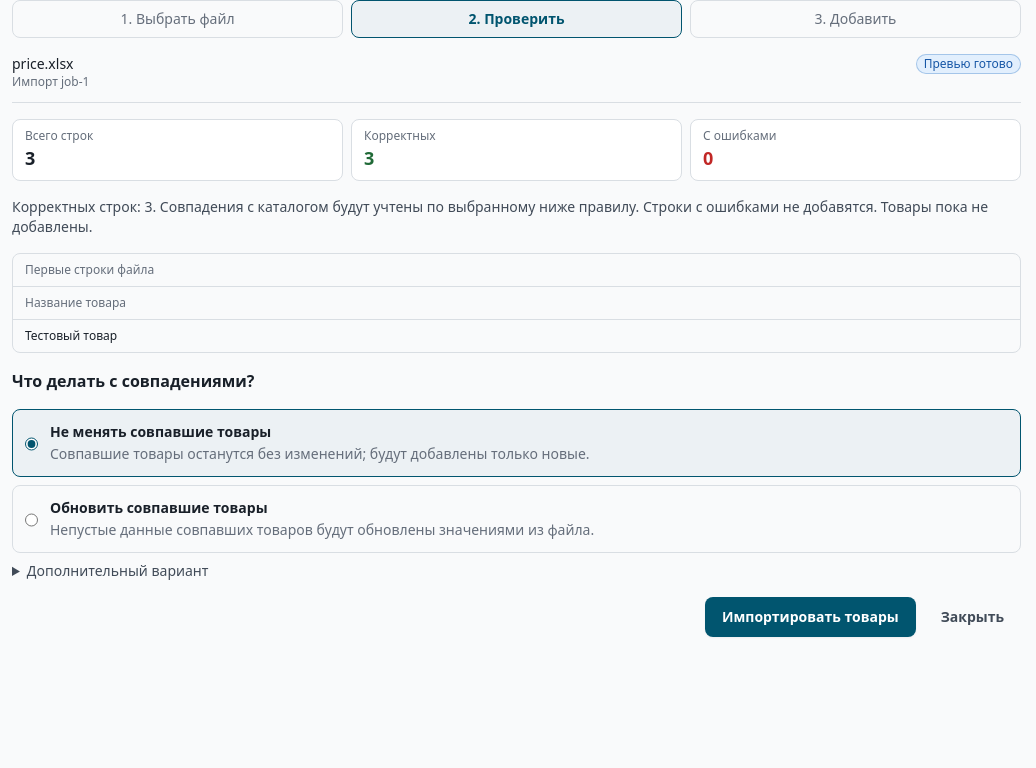
ImportWizard › defaults to preserving existing products and warns before modifying them
Check: the radio button labelled "Не менять совпавшие товары" is checked, box [25,424,38,464]
Click the radio button labelled "Обновить совпавшие товары" at [32, 520], box [25,500,38,540]
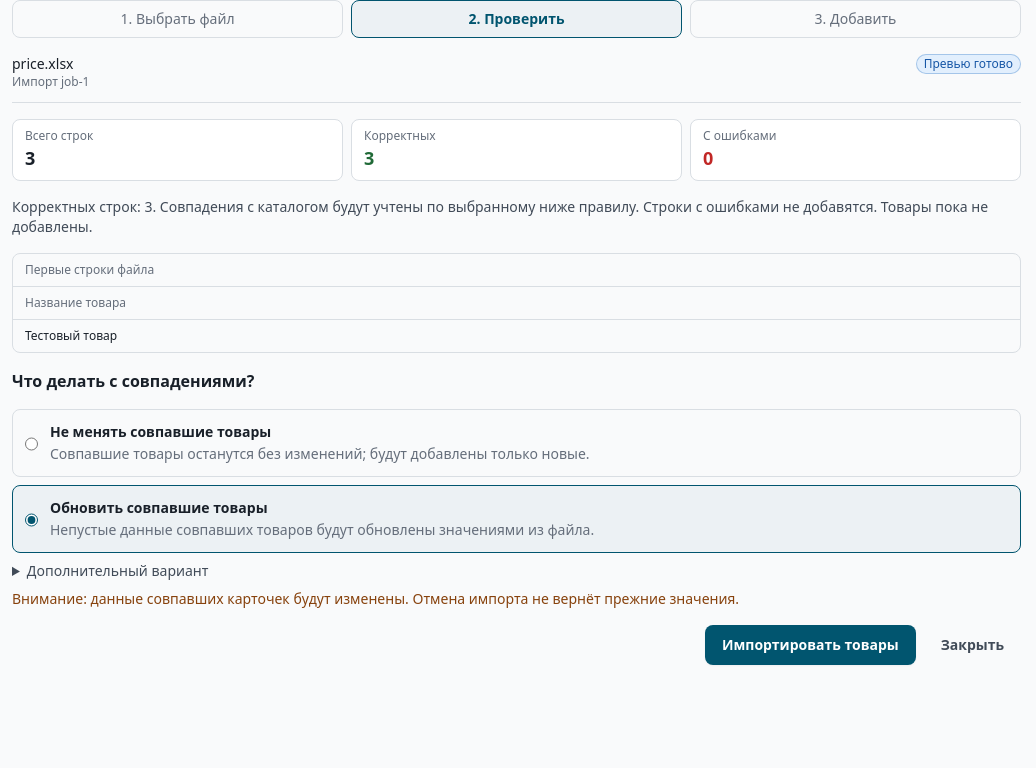
Check: the text "Отмена импорта не вернёт прежние значения" is shown, box [12,589,739,608]
